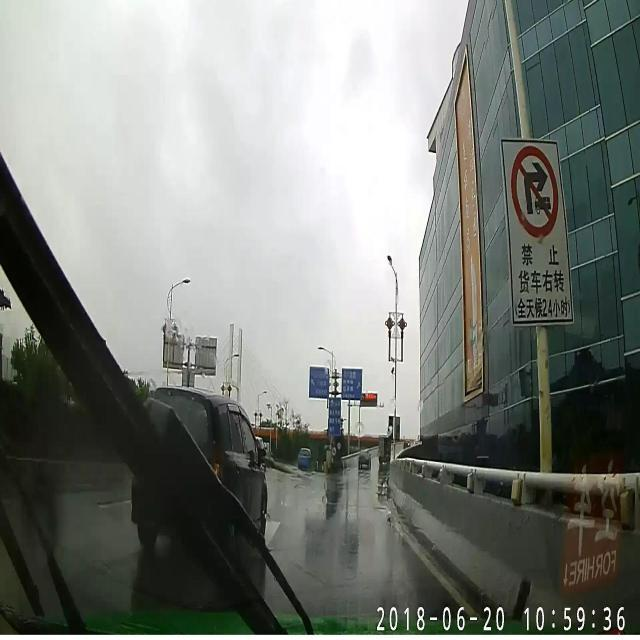car: (132, 382, 266, 546), (296, 447, 312, 467), (358, 446, 370, 468)
